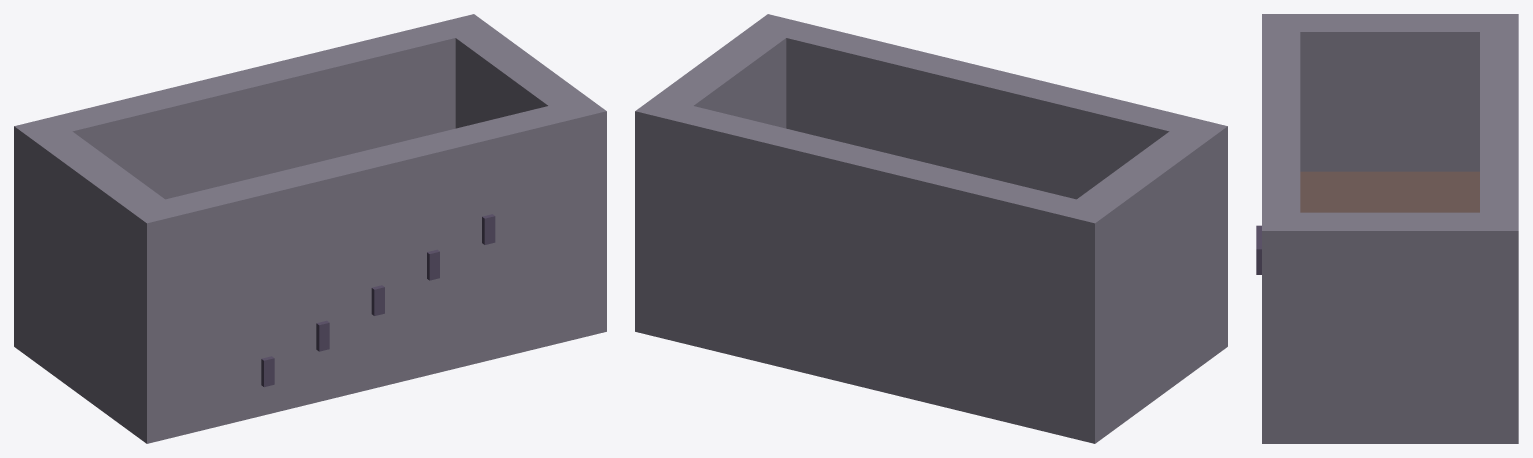
Rendered from planter-cracked.glb.
3 renders of one model, left to right at view 1: azimuth 30°, elevation 25°; view 2: azimuth 150°, elevation 25°; view 3: azimuth 270°, elevation 25°, orthographic. The views are drawn at different scales.
Parts seen in each view (by area): view 1: side-1, end--1, side--1, end-1, base; view 2: side--1, end--1, side-1, base, end-1; view 3: end-1, end--1, base, soil, side--1, side-1.
Part boxes in pixels (x1,y1,x2,y2): side-1: (165,106,568,434); end--1: (14,117,185,442); side--1: (53,23,455,199); end-1: (436,14,606,340); base: (14,306,606,443); side--1: (673,106,1076,433); end--1: (1056,117,1227,443); side-1: (786,23,1188,199); base: (635,299,1227,443); end-1: (635,14,805,340); end-1: (1262,212,1518,443); end--1: (1262,14,1518,171); base: (1262,409,1518,443); soil: (1300,171,1479,212); side--1: (1480,32,1518,212); side-1: (1262,32,1300,212).
Bounding box in the file's own units: 2.4 × 1.1 × 1.23.
